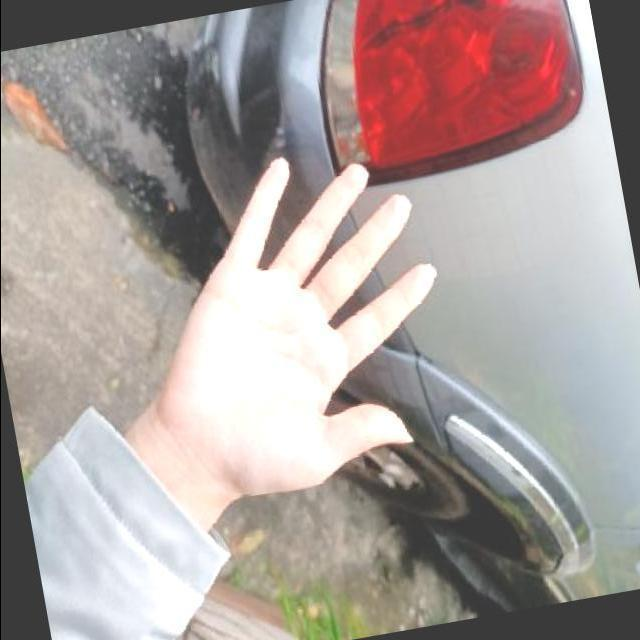hand: (106, 122, 492, 532)
